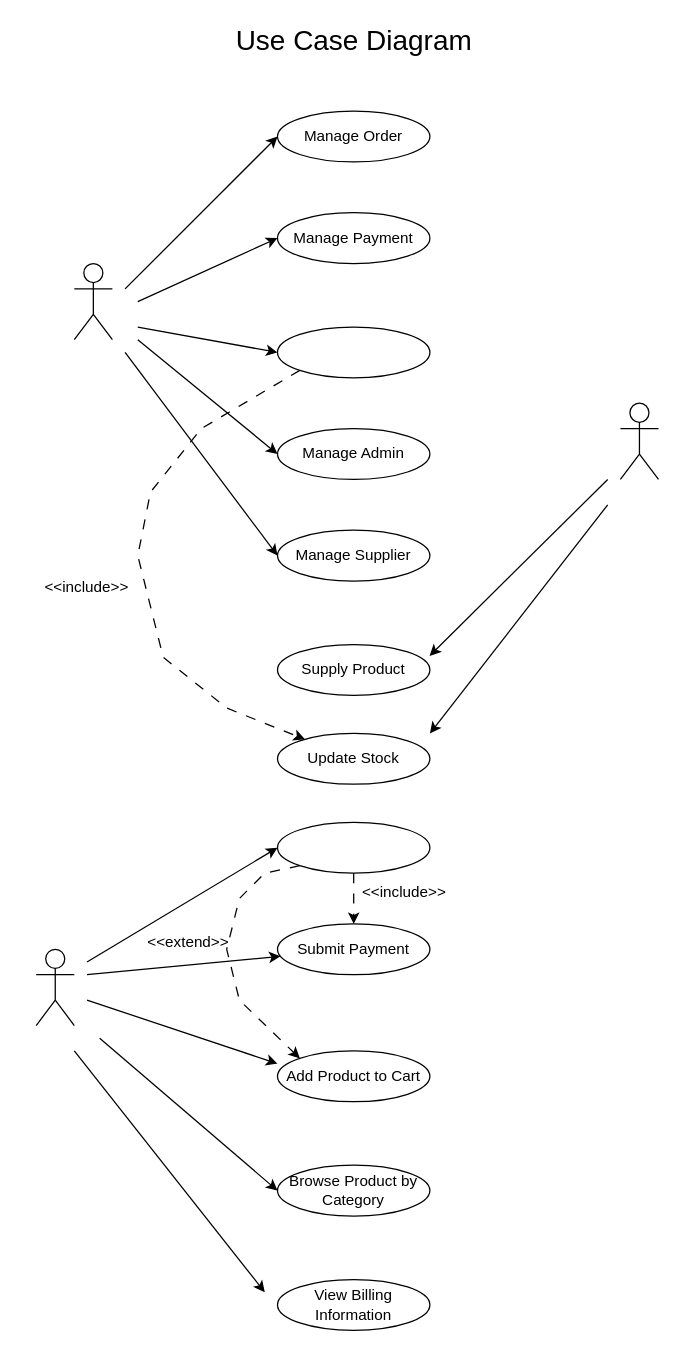
This 688x1353 diagram has some shape labels left out. The shapes that lost their labels are listed below. From the top down, each one's box as (x1, y1, x2, y2) in pixels, then its label:
(73, 262, 112, 340): Admin
(276, 326, 430, 378): Manage Product
(619, 402, 658, 479): Supplier
(276, 821, 430, 873): Place Order
(35, 948, 74, 1026): Customer
